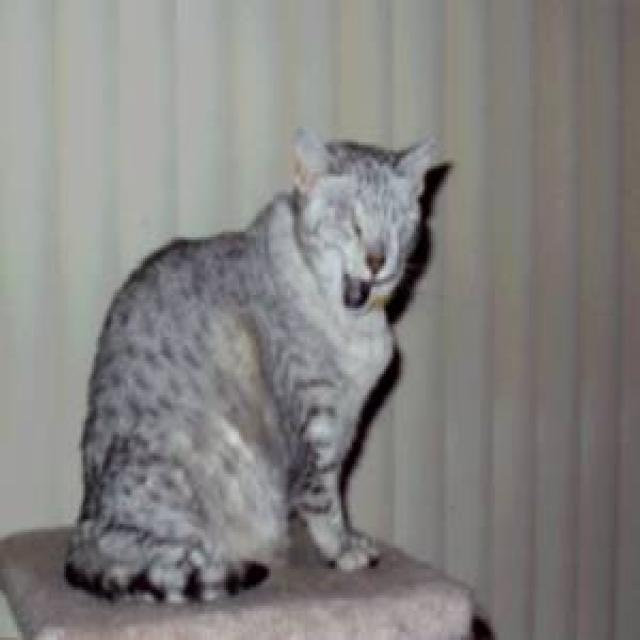Egyptian_Mau: (284, 110, 452, 322)
